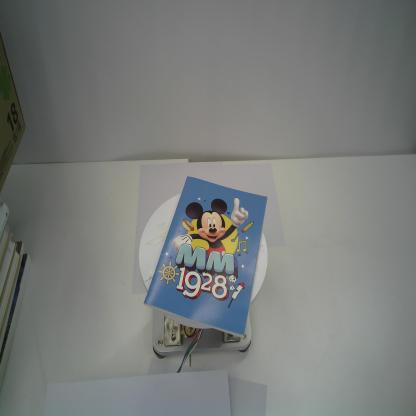Stationery: (143, 176, 267, 339)
